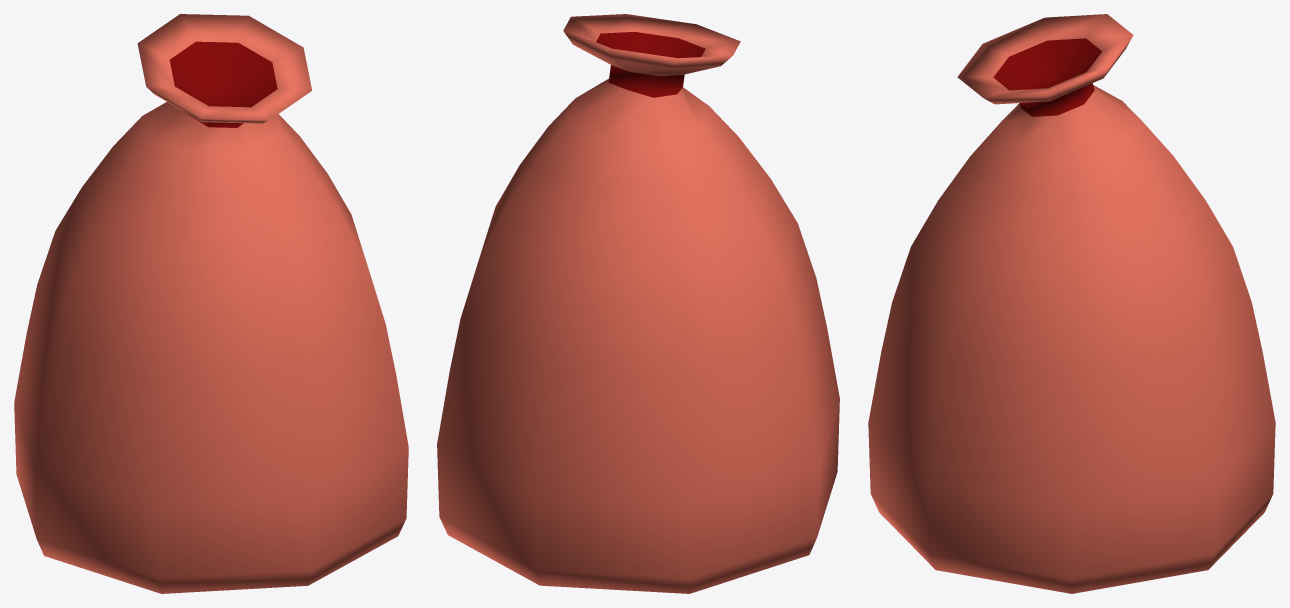
The model's file is Saco_ItensPlayer.fbx.
3 views of the same model, side by side, from view 1: azimuth 30°, elevation 25°; view 2: azimuth 150°, elevation 25°; view 3: azimuth 270°, elevation 25° (orthographic). The views are drawn at different scales.
Visible parts, largest first — view 1: saco cehio; view 2: saco cehio; view 3: saco cehio.
Part boxes in pixels (x1,y1,x2,y2): saco cehio: [14, 14, 408, 593]; saco cehio: [437, 14, 839, 593]; saco cehio: [868, 14, 1275, 593].
Bounding box in the file's own units: 0.555 × 0.7173 × 0.555.
